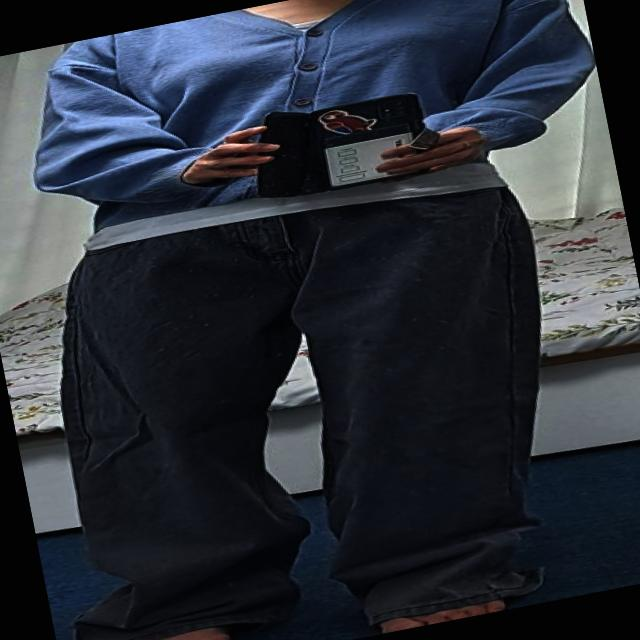cardigan: (13, 0, 610, 247)
denimpants: (4, 145, 592, 640)
